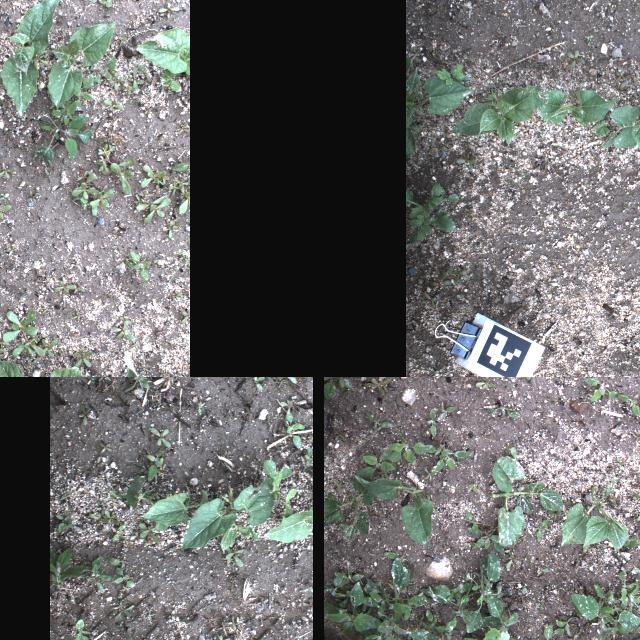crop: (136, 458, 294, 552), (0, 0, 65, 121), (408, 52, 477, 156), (492, 454, 566, 546), (446, 83, 540, 149), (46, 21, 118, 107), (353, 474, 432, 546), (560, 476, 630, 550), (31, 95, 97, 168), (133, 26, 190, 94), (324, 474, 376, 542), (606, 67, 640, 161), (263, 480, 313, 543), (540, 88, 616, 126), (114, 348, 190, 377), (633, 487, 640, 518)
weed: (571, 584, 640, 640), (465, 552, 507, 634), (369, 556, 435, 606), (325, 582, 383, 636), (408, 183, 459, 243), (419, 582, 473, 636), (52, 546, 108, 594), (377, 600, 443, 640), (104, 476, 158, 514), (362, 579, 406, 625), (477, 592, 519, 640), (274, 396, 308, 454), (426, 434, 470, 474), (323, 377, 390, 401), (383, 432, 429, 463), (86, 510, 130, 542), (133, 193, 173, 225), (108, 548, 138, 590), (4, 310, 41, 344), (123, 63, 157, 99), (467, 526, 507, 556), (104, 160, 136, 196), (160, 252, 190, 286), (100, 51, 124, 93), (582, 377, 620, 403), (68, 172, 100, 202), (138, 450, 166, 484), (89, 183, 115, 219), (110, 598, 140, 628), (380, 585, 412, 613), (142, 426, 176, 452), (168, 178, 190, 216), (432, 62, 470, 84), (126, 251, 152, 283), (358, 455, 394, 477), (138, 163, 166, 191), (434, 264, 466, 288), (54, 275, 88, 297), (384, 548, 410, 576), (122, 377, 167, 393), (80, 72, 104, 101), (70, 347, 94, 375), (106, 319, 134, 343), (359, 619, 391, 640), (51, 510, 78, 534), (0, 154, 17, 192), (154, 1, 183, 23), (424, 606, 446, 634), (334, 566, 364, 586), (365, 411, 393, 432), (12, 340, 44, 358), (556, 612, 580, 636), (69, 617, 94, 640), (615, 393, 640, 416), (612, 66, 634, 92), (220, 549, 248, 569), (485, 404, 519, 420), (40, 332, 58, 362), (153, 318, 175, 342), (619, 568, 635, 600), (619, 527, 640, 550), (628, 580, 640, 618), (246, 377, 268, 397), (259, 377, 301, 387), (217, 616, 240, 634), (566, 48, 586, 68), (466, 512, 486, 532), (324, 576, 344, 596), (162, 217, 180, 239), (77, 404, 95, 426), (350, 604, 372, 622), (96, 439, 112, 463), (536, 517, 552, 541), (102, 98, 121, 118), (166, 160, 188, 177), (24, 186, 41, 208), (1, 243, 21, 261), (457, 156, 477, 174), (192, 396, 210, 416), (301, 442, 313, 470), (173, 120, 189, 140), (140, 99, 156, 119), (417, 294, 437, 310), (90, 377, 130, 385), (297, 576, 313, 596), (254, 594, 274, 610), (411, 614, 431, 630), (360, 596, 382, 610), (437, 406, 455, 422), (334, 590, 350, 608), (0, 199, 13, 221), (298, 596, 313, 615), (117, 30, 131, 50), (97, 142, 117, 156), (428, 408, 437, 438), (168, 290, 190, 302), (474, 377, 496, 389), (177, 308, 190, 328), (592, 121, 608, 137), (142, 611, 160, 625), (612, 455, 626, 473), (92, 0, 127, 7), (0, 333, 8, 363), (462, 536, 482, 548), (330, 428, 346, 442), (504, 553, 518, 569), (53, 492, 75, 502), (463, 636, 518, 640), (173, 632, 197, 640), (543, 622, 553, 640), (72, 310, 86, 322), (96, 159, 112, 169), (536, 566, 552, 576), (466, 482, 479, 494), (0, 187, 11, 199), (611, 497, 623, 508), (392, 632, 406, 640), (335, 478, 345, 489), (632, 469, 640, 481), (568, 633, 581, 640), (538, 602, 546, 612), (606, 467, 614, 475), (636, 508, 640, 521), (635, 431, 640, 441), (344, 392, 350, 400), (450, 552, 454, 564), (616, 416, 622, 422)
